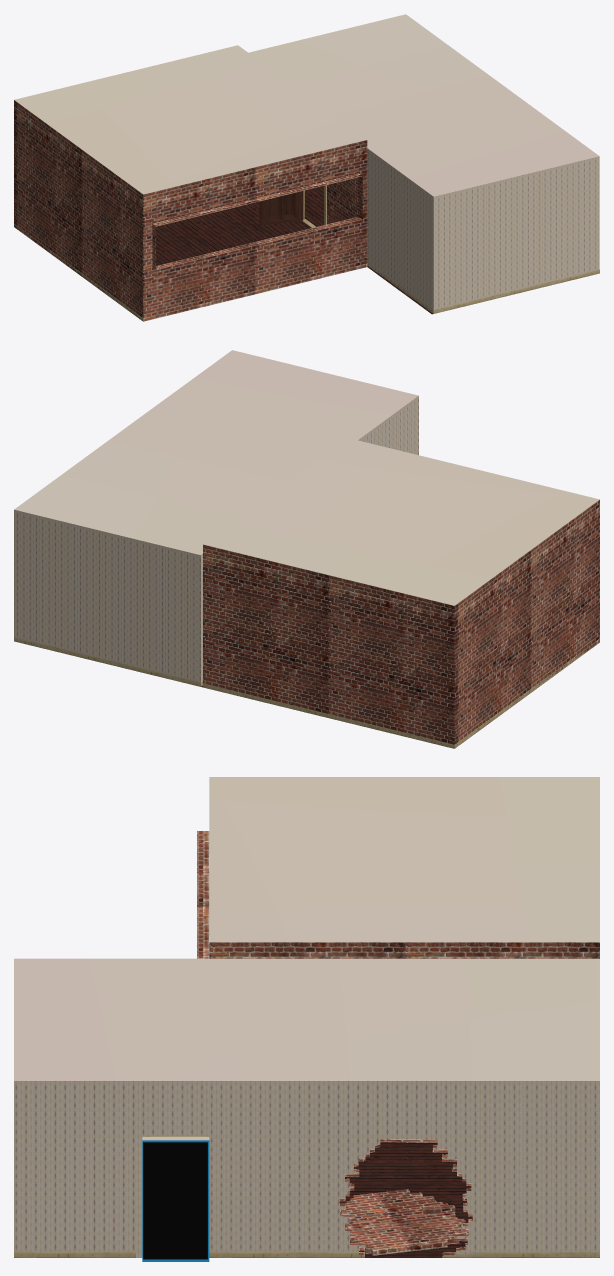
The model's file is flatlight2.dae.
3 renders of one model, top to bottom at view 1: azimuth 30°, elevation 25°; view 2: azimuth 150°, elevation 25°; view 3: azimuth 270°, elevation 25°, orthographic. The views are drawn at different scales.
Visible parts, largest first — view 1: mesh_003, mesh_000, mesh_004, mesh_001, mesh_006; view 2: mesh_003, mesh_000, mesh_001; view 3: mesh_003, mesh_000, mesh_005, mesh_004, mesh_001.
Boxes of the visible parts, left/top/right/bottom form: mesh_003: left=14, top=14, right=599, bottom=312; mesh_000: left=14, top=100, right=367, bottom=321; mesh_004: left=156, top=186, right=432, bottom=314; mesh_001: left=14, top=185, right=599, bottom=321; mesh_006: left=259, top=191, right=303, bottom=225; mesh_003: left=14, top=350, right=599, bottom=684; mesh_000: left=203, top=500, right=599, bottom=746; mesh_001: left=14, top=637, right=599, bottom=748; mesh_003: left=14, top=777, right=599, bottom=1257; mesh_000: left=197, top=831, right=599, bottom=1255; mesh_005: left=142, top=1140, right=209, bottom=1261; mesh_004: left=340, top=1142, right=472, bottom=1257; mesh_001: left=14, top=1136, right=599, bottom=1257.
Bounding box in the file's own units: 11.35 × 9.6 × 3.47.
7 materials, 7 textured.
